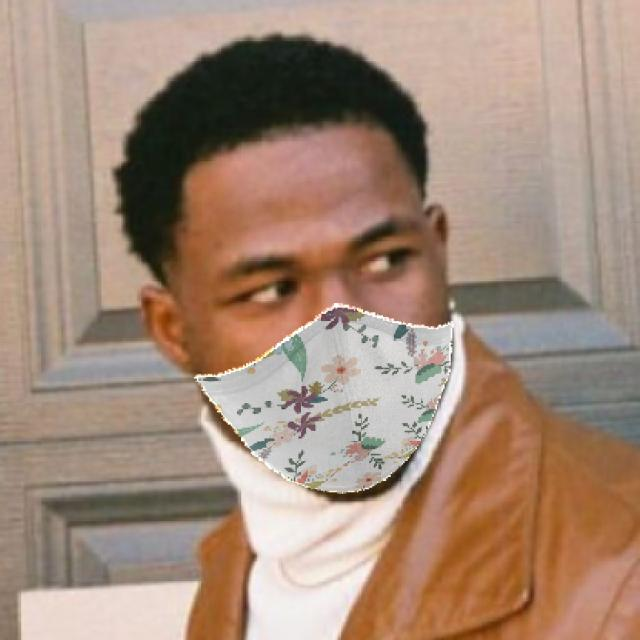mask: (174, 314, 496, 500)
